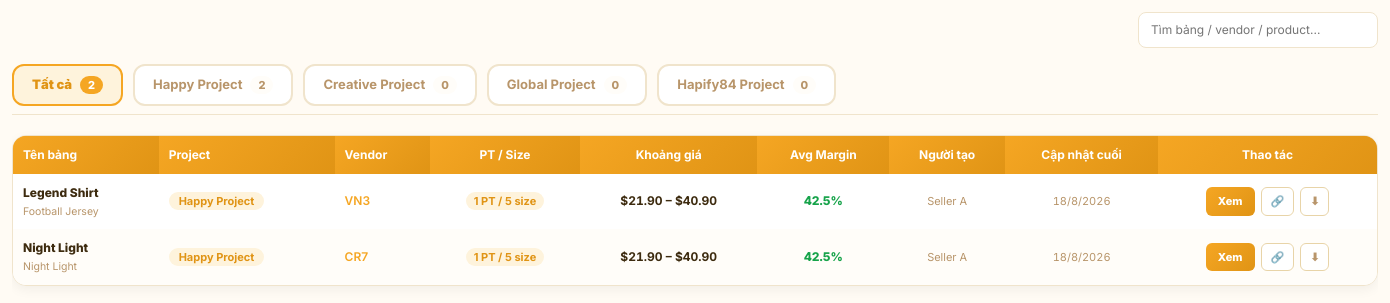
Test case: tìm kiếm › tìm theo tên bảng, vendor, product type — không phân biệt project đang chọn
The width and height of the screenshot is (1390, 303).
In the field with placeholder "Tìm bảng / vendor / product...": (1258, 30) [1138,12,1378,48], type "night"
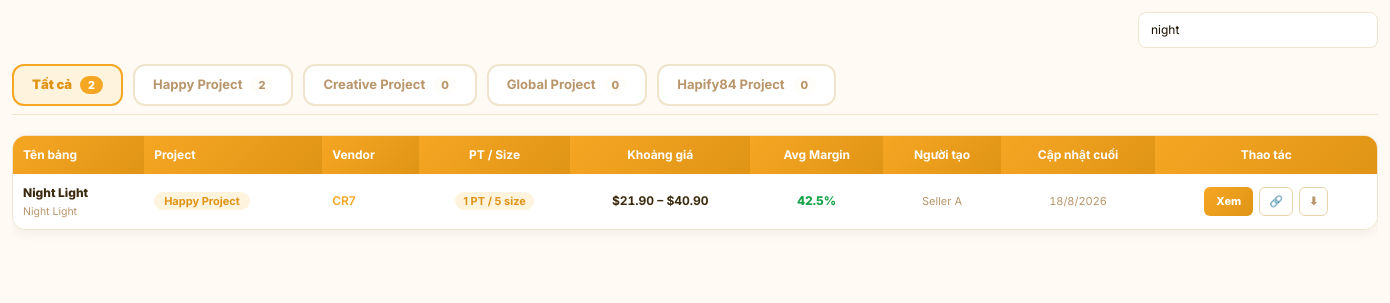
Check: the text "Legend Shirt" is gone
